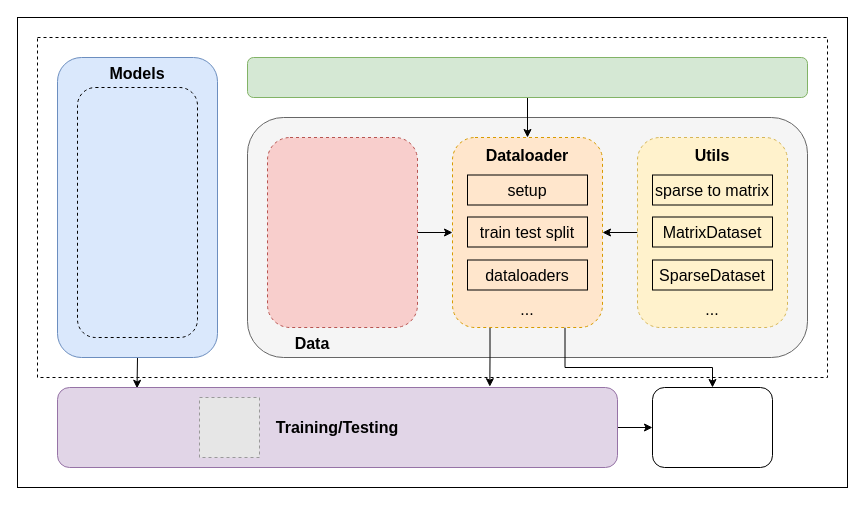
Some shapes in this 865 by 505 pixel diagram are drawn without their labels. Grey dashed boxes stand in for pictures. The centre of each missing label's shape, as x and y in pixels:
"Algorithms MF FM GMF NCF NeuMF NeuFM mDACF GMF++ MLP++ ..." goes at point 137,212.
"Dataset Movielens BookCrossing Custom ..." goes at point 342,232.
"Evaluator" goes at point 712,427.
"Preprocessor" goes at point 527,77.
